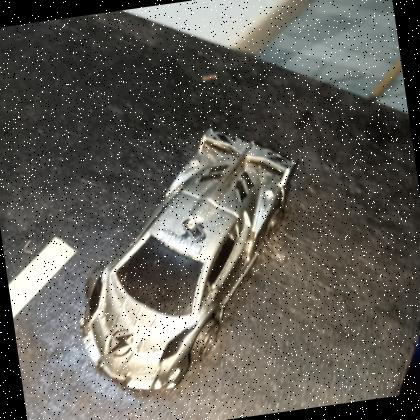Car: (54, 115, 327, 402)
